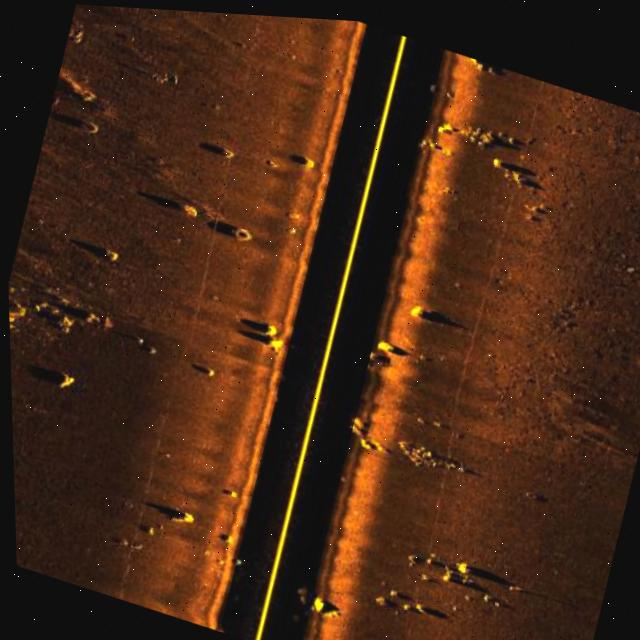mine: (397, 290, 464, 330), (367, 327, 417, 365), (181, 353, 224, 395)
other: (15, 354, 78, 396), (50, 106, 101, 146), (208, 211, 256, 247)
